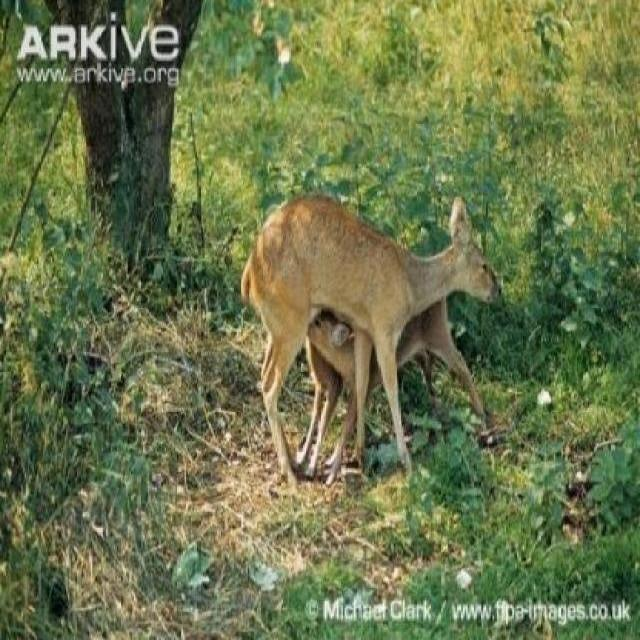deer: (238, 188, 506, 496)
